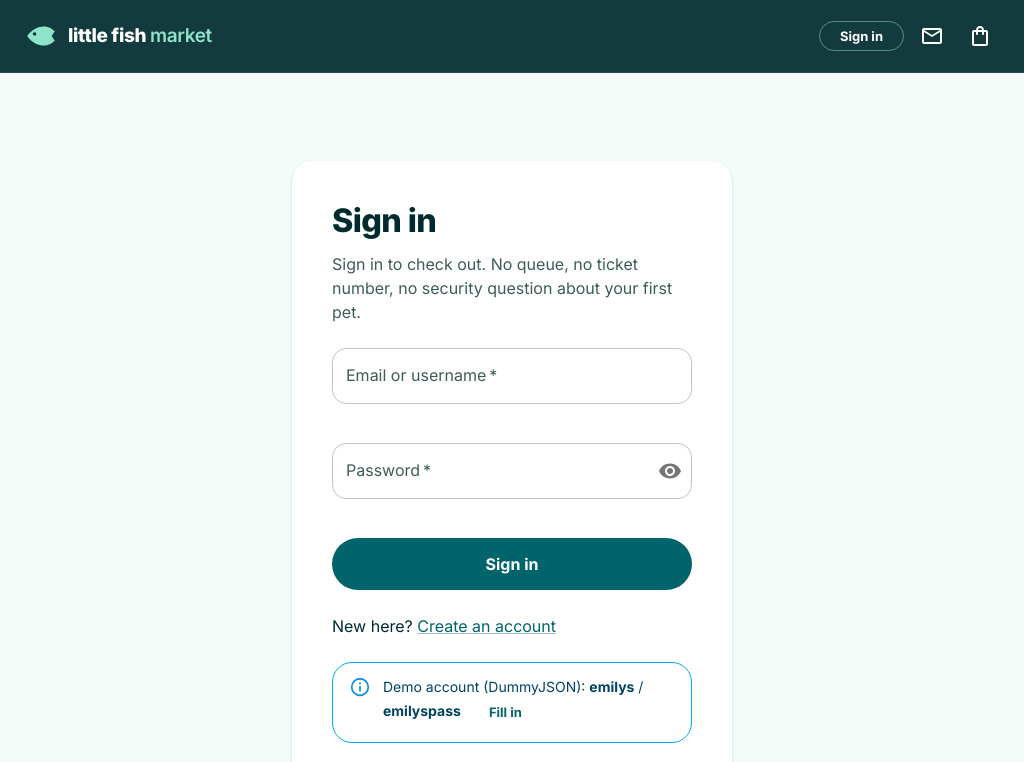
Test: Email sign-in (Supabase Auth) › still routes usernames to the DummyJSON demo login
Type "emilys" into the field labelled "Email or username *".
click(512, 376); type("emilys")  # box [332, 348, 692, 404]
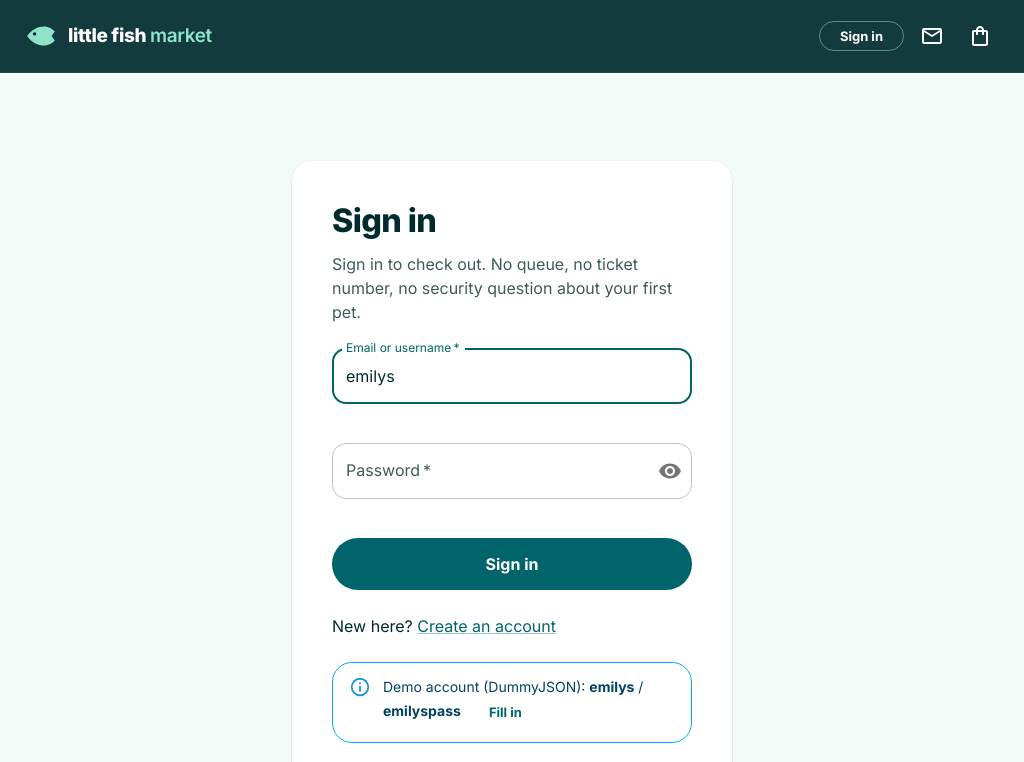
Type "x" into the password field labelled "Password *".
click(487, 471); type("x")  # box [332, 443, 642, 499]
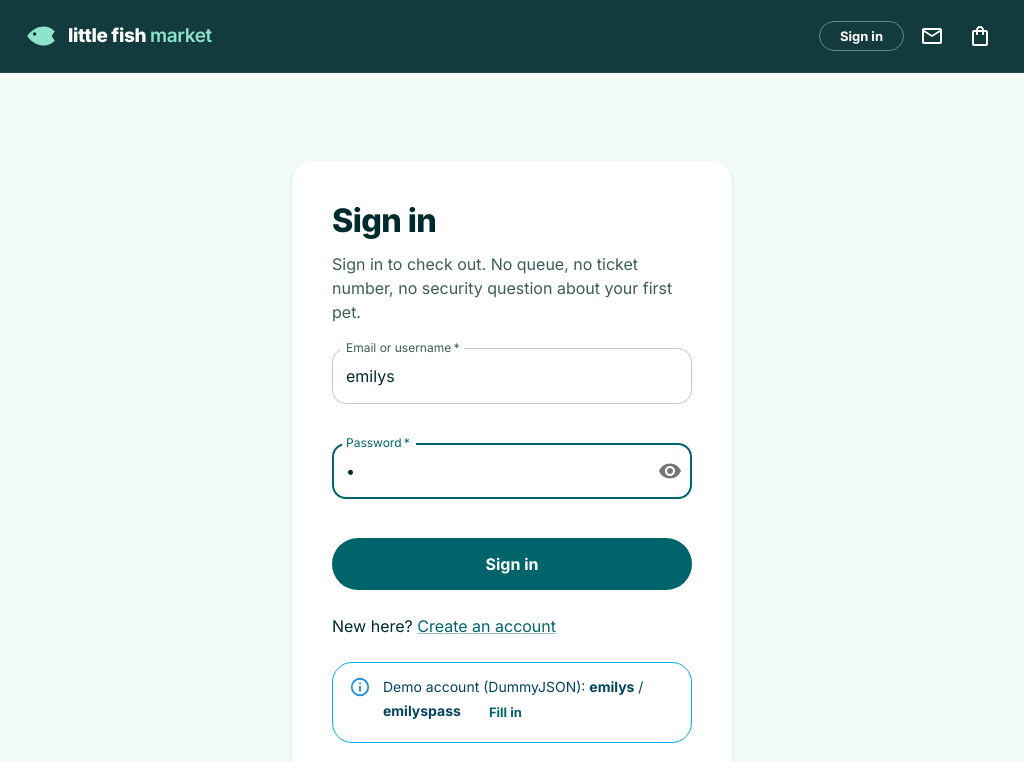
Click the button "Sign in".
click(512, 564)  # box [332, 538, 692, 590]
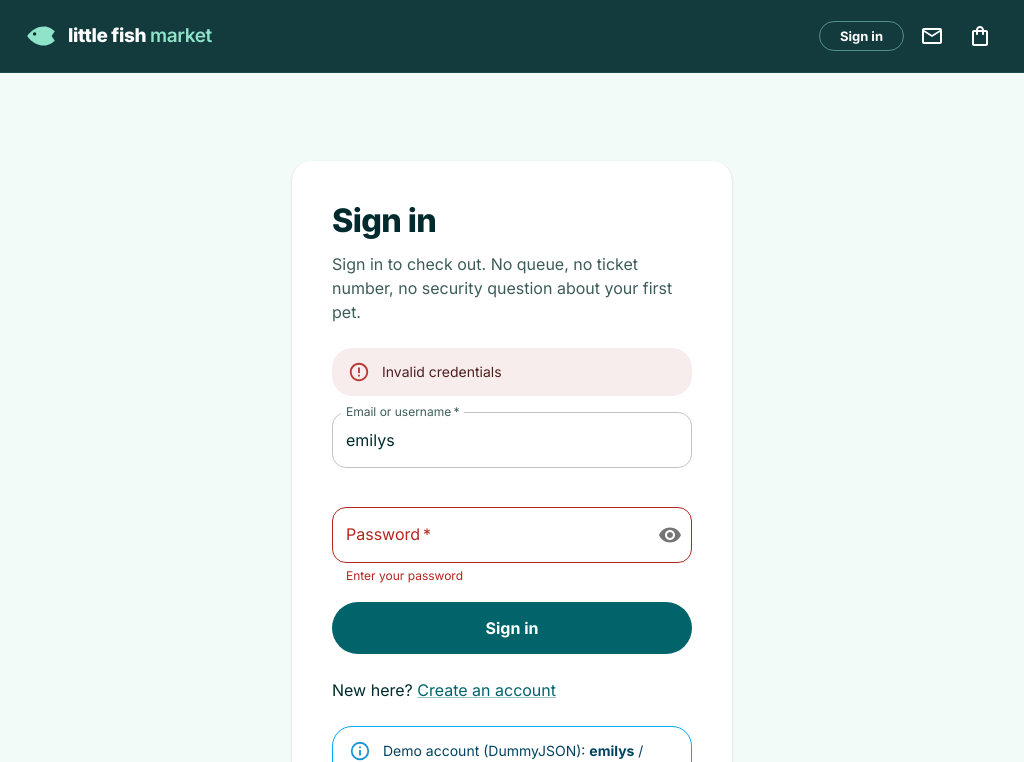
Now the message reads "Invalid credentials", box [382, 363, 502, 380]
